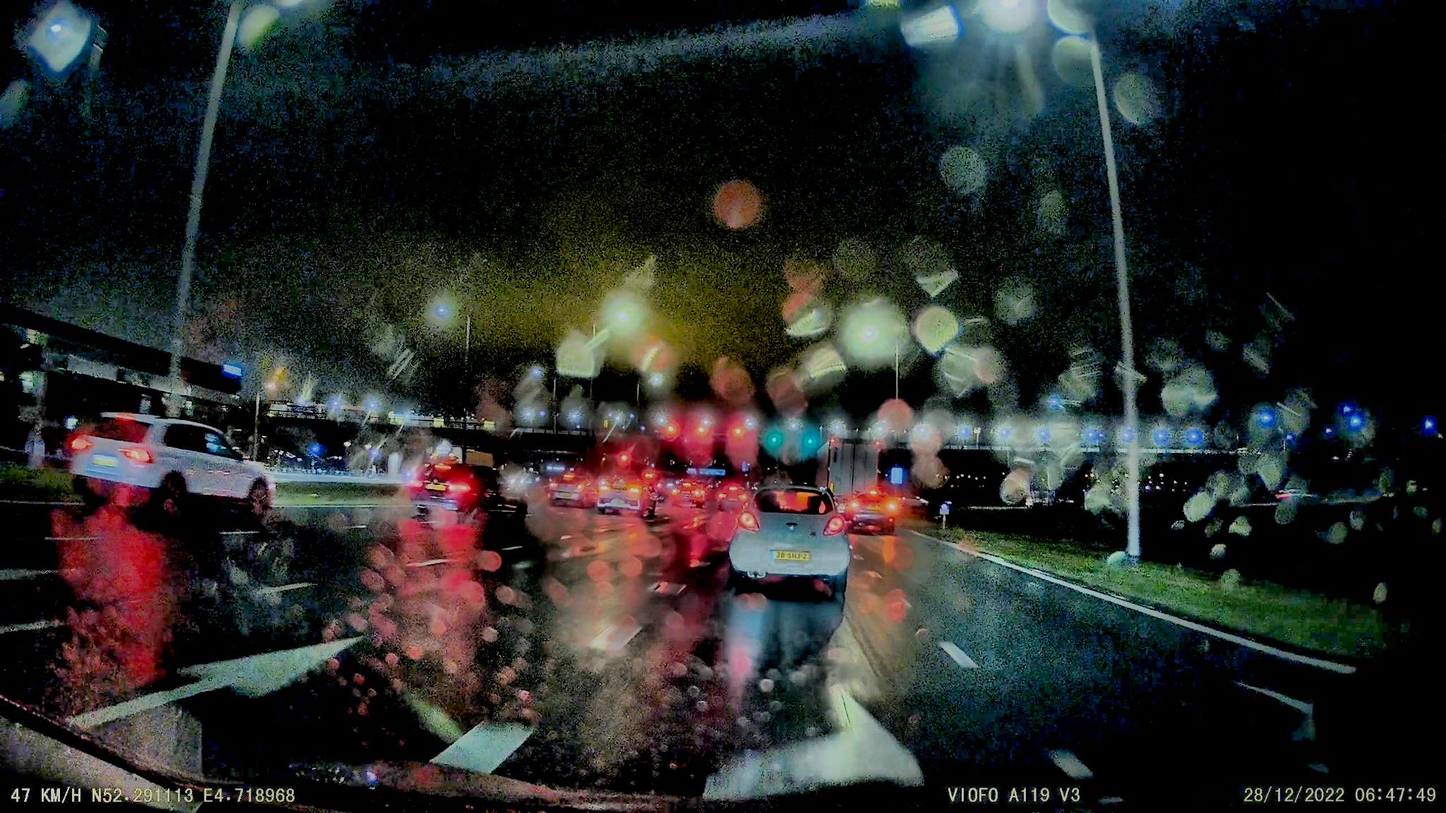Roads: (57, 502, 1252, 813)
